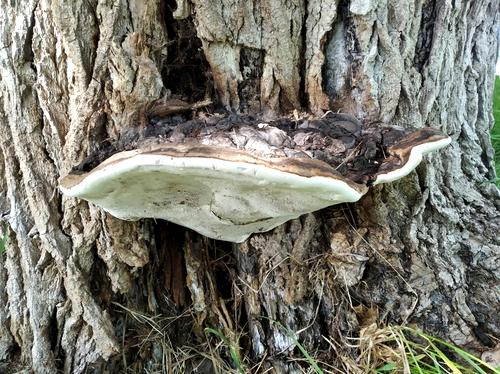Ganoderma - Fruit Body: (59, 125, 358, 246), (367, 124, 454, 186)
